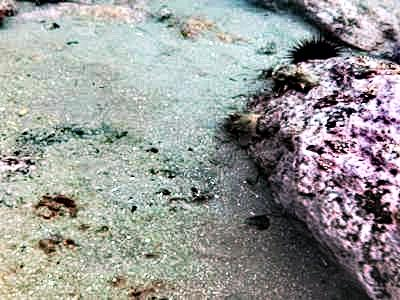urchin: (286, 33, 341, 64)
